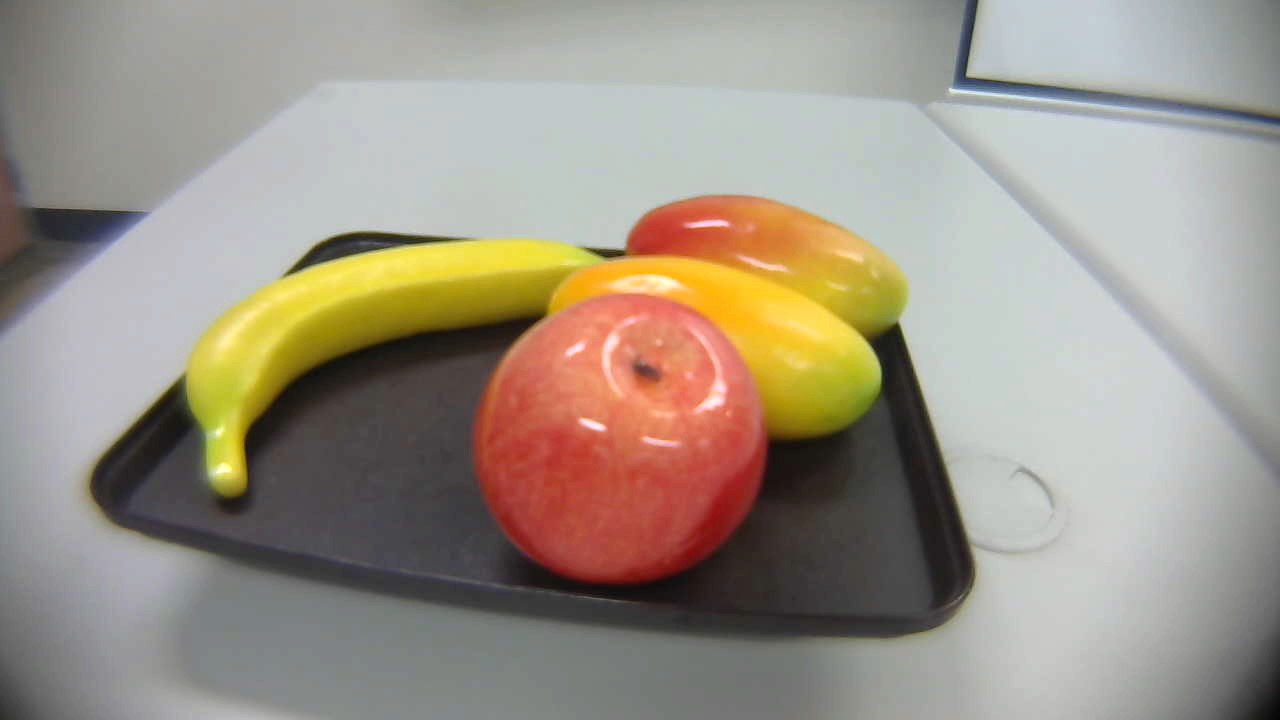banana: (168, 236, 612, 499)
red apple: (465, 294, 780, 591)
red mango: (623, 189, 915, 346)
yellow mango: (542, 249, 898, 453)
